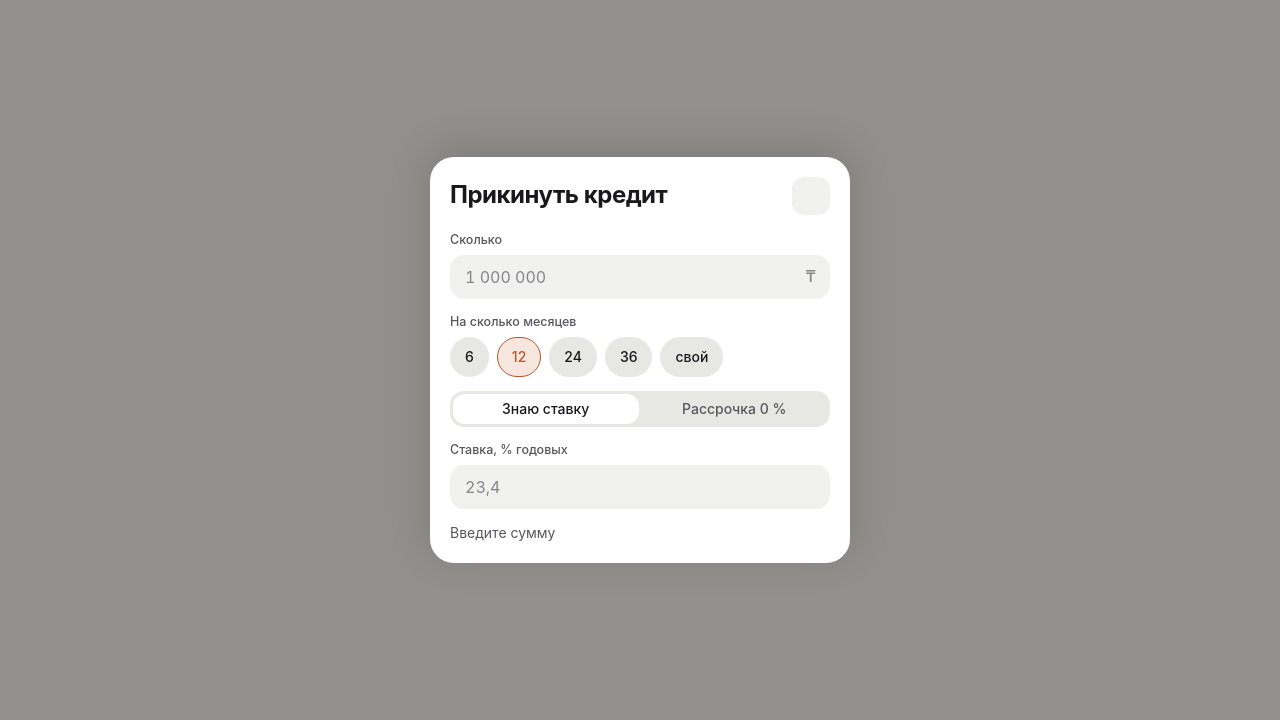
Test case: PN-17: «Прикинуть кредит» › 1 000 000 на 24 месяца под 20 %: платёж, нагрузка, мечта, переплата — из tryCredit; документ не меняется
This screenshot has width=1280, height=720.
Type "1000000" into the field labelled "Сколько ₸" at (640,277), box [450,255,830,299]
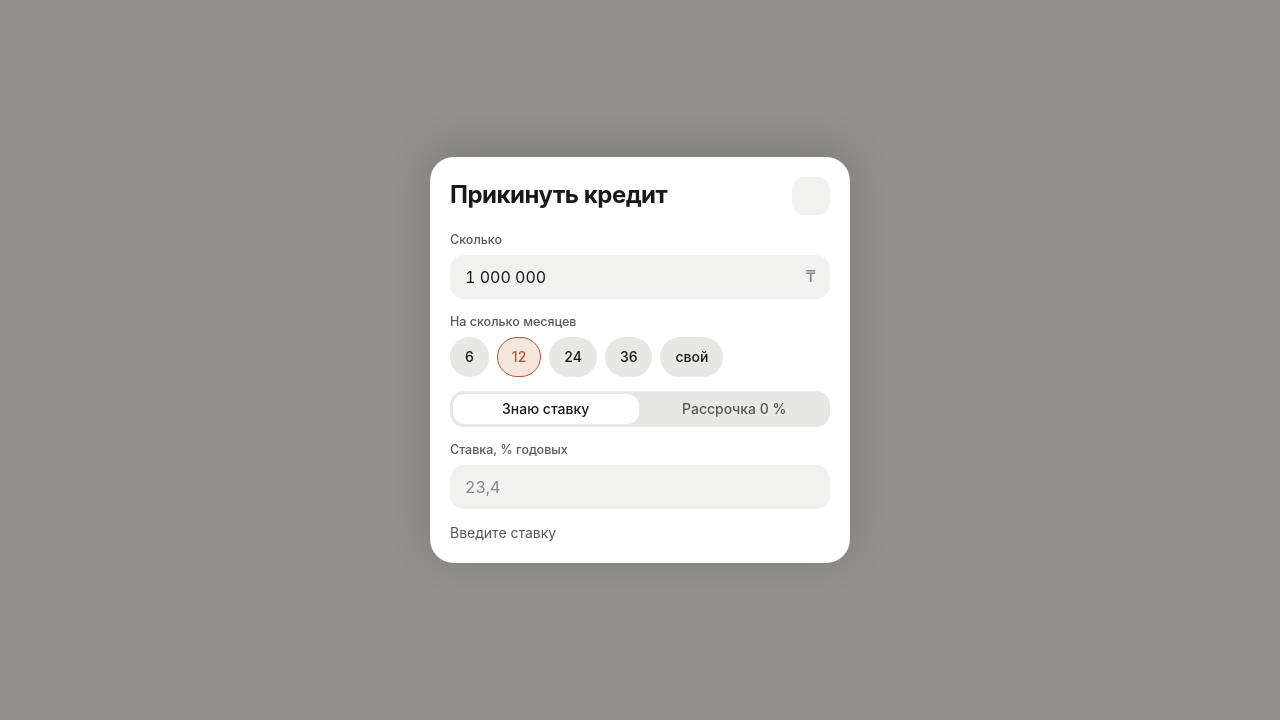
Click the button "24" at (573,357), box [549,337,597,377]
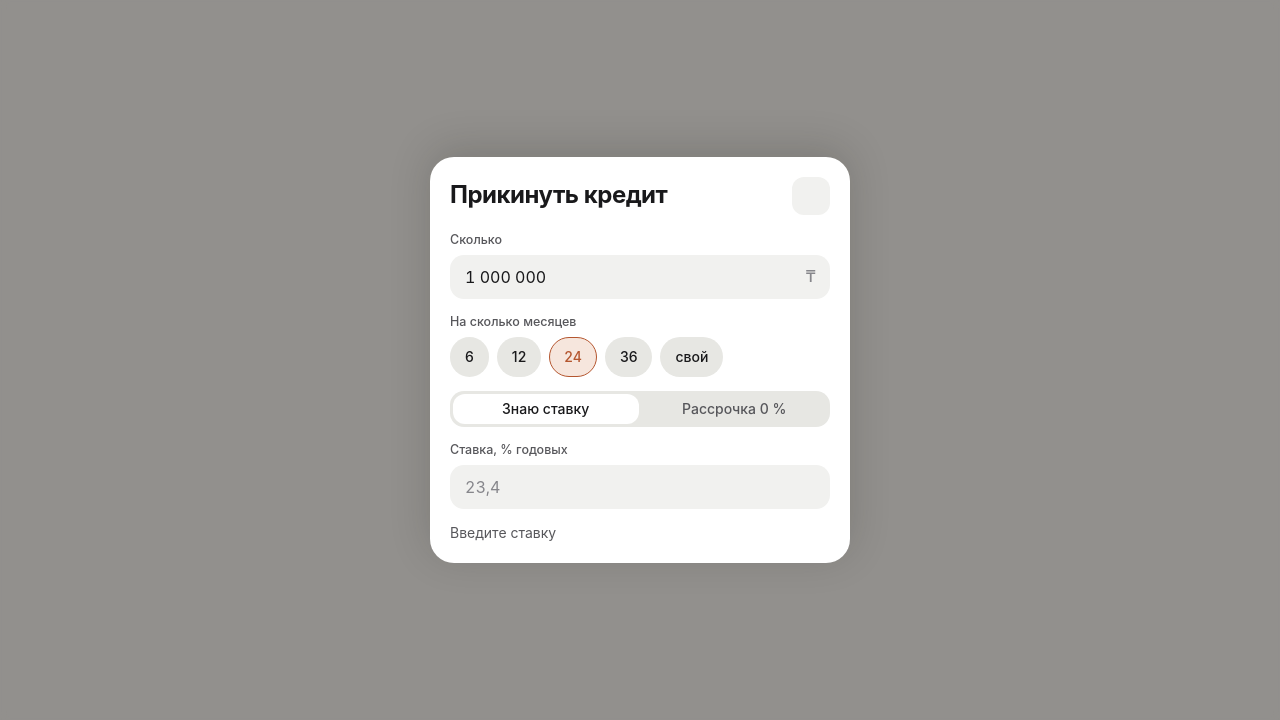
Type "20" into the field labelled "Ставка, % годовых" at (640,487), box [450,465,830,509]
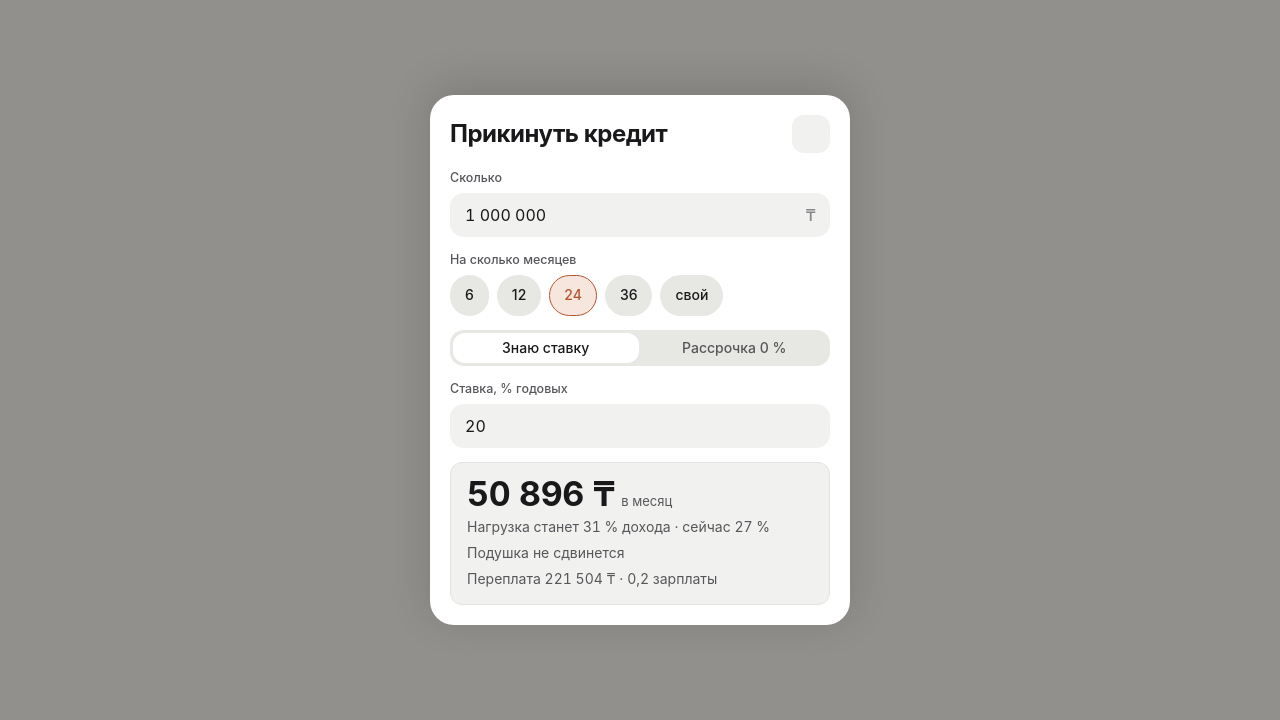
Expected: the text "Подушка не сдвинется" is shown, [467,544,624,561]
Expected: the text "Переплата 221 504 ₸ · 0,2 зарплаты" is shown, [467,570,717,588]
